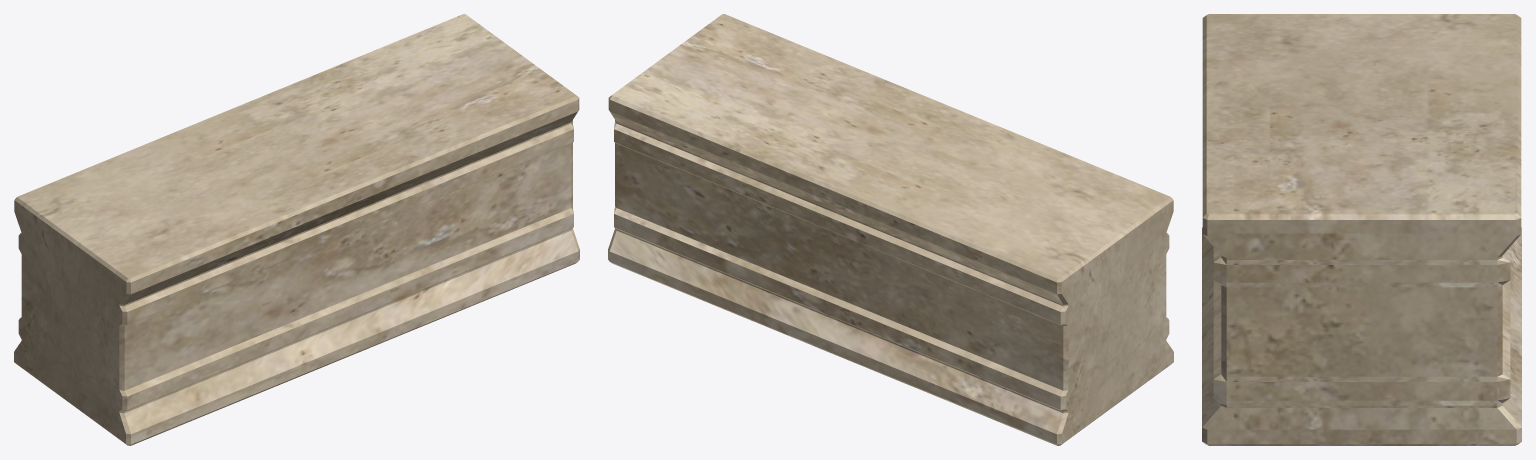
Rendered from roof_face_top_inner.FBX.
3 views of the same model, side by side, from view 1: azimuth 30°, elevation 25°; view 2: azimuth 150°, elevation 25°; view 3: azimuth 270°, elevation 25° (orthographic). The views are drawn at different scales.
Parts seen in each view (by area): view 1: Object184; view 2: Object184; view 3: Object184.
Part boxes in pixels (x1,y1,x2,y2): Object184: (14,14,579,445); Object184: (608,14,1173,445); Object184: (1202,14,1521,445).
Size of the model in its own units: 147 by 74.5 by 64.79.
